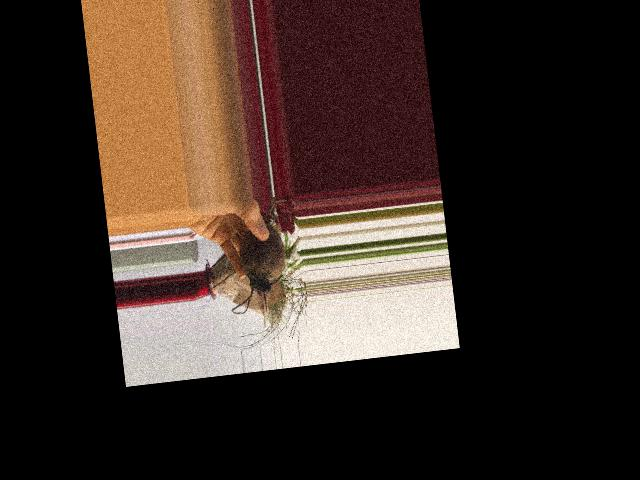beet: (219, 199, 298, 315)
